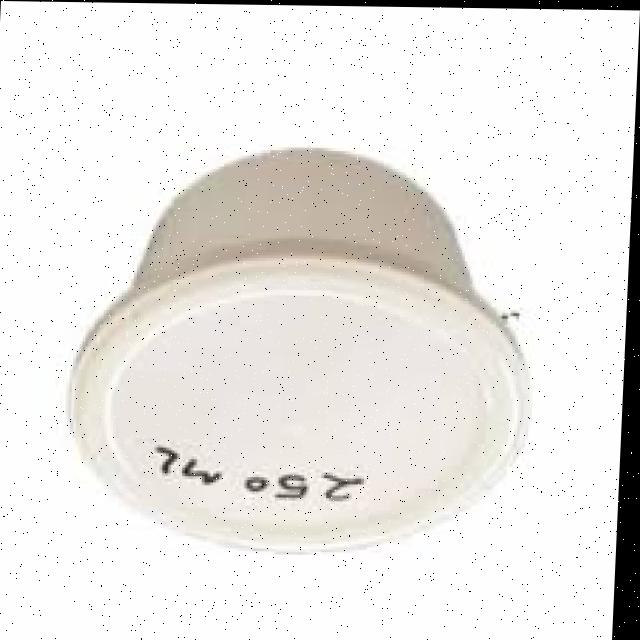disposable: (15, 121, 561, 575)
